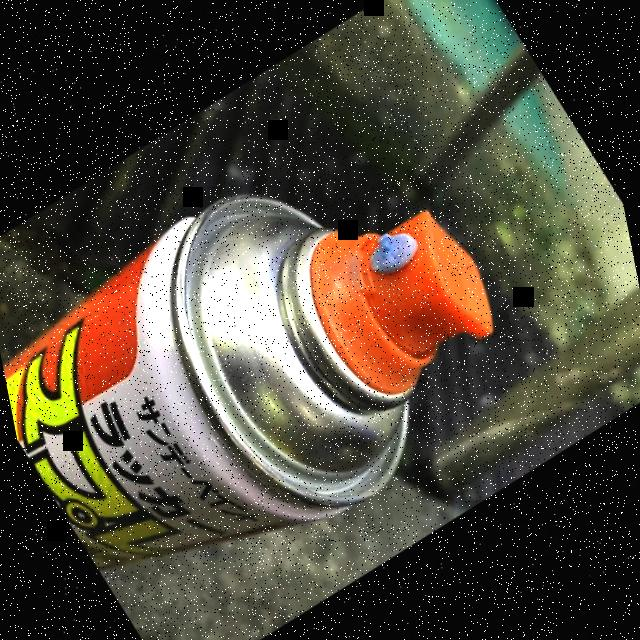chemical_spray_can: (3, 195, 494, 571)
